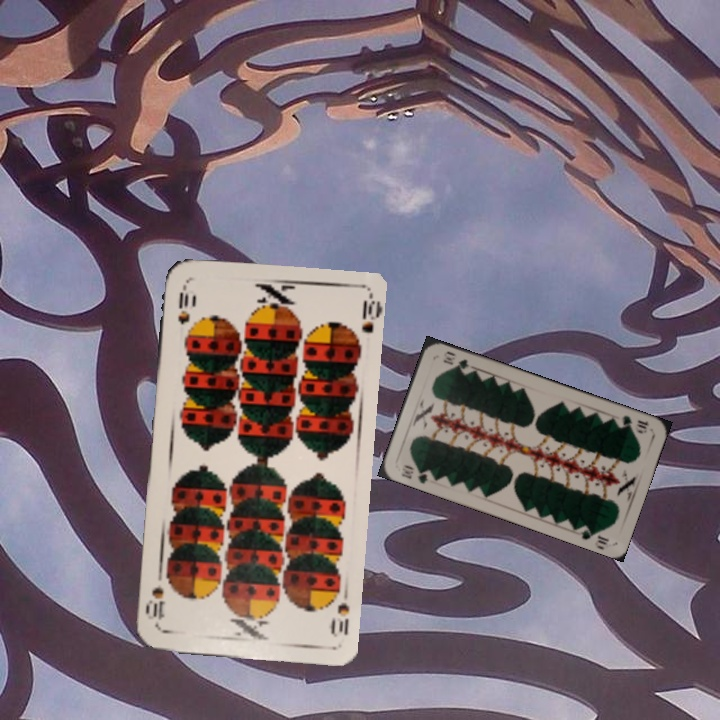G10: (397, 461, 436, 486), (618, 411, 651, 436)
S10: (326, 583, 352, 640), (173, 281, 192, 327)
